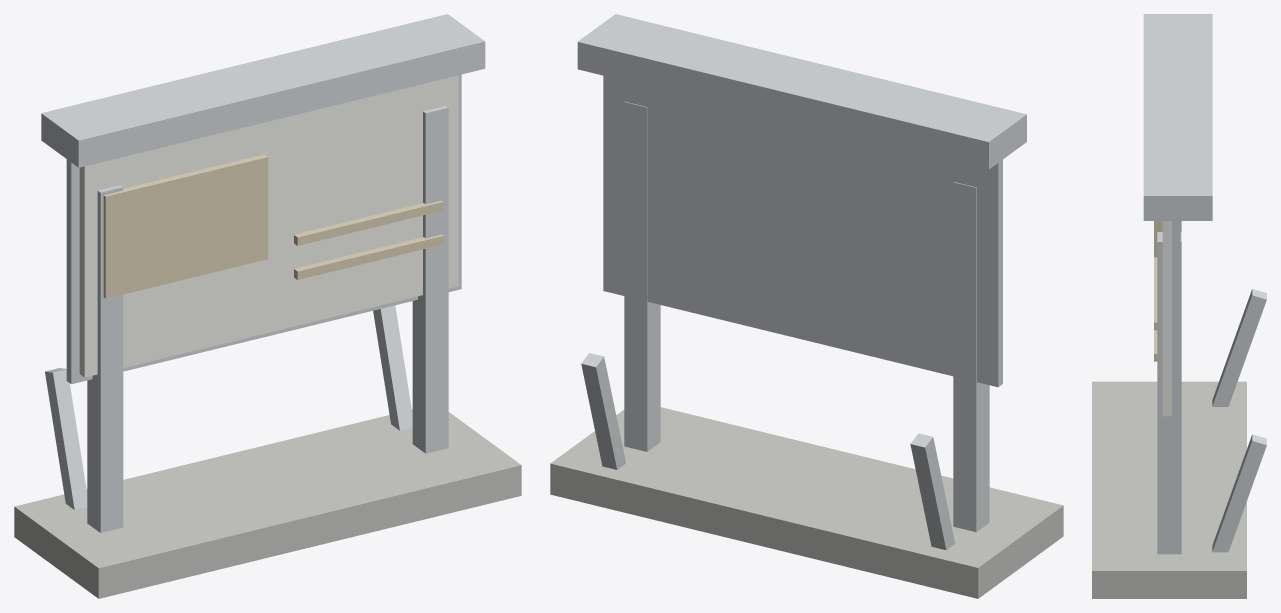
The model's file is radio-telescope-array-and-field-station-visitor-board-b197e762__37663.glb.
3 views of the same model, side by side, from view 1: azimuth 30°, elevation 25°; view 2: azimuth 150°, elevation 25°; view 3: azimuth 270°, elevation 25° (orthographic). The views are drawn at different scales.
Parts seen in each view (by area): view 1: visitor-board; view 2: visitor-board; view 3: visitor-board.
Boxes of the visible parts, x1,y1,x2,y2 form: visitor-board: [14, 14, 521, 598]; visitor-board: [550, 14, 1063, 598]; visitor-board: [1092, 14, 1266, 598].
Bounding box in the file's own units: 2.6 × 2.56 × 1.02.
